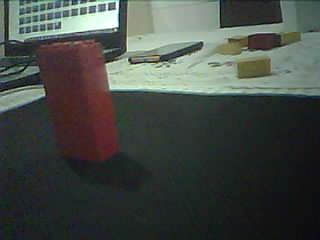lego: (35, 38, 121, 162), (247, 32, 305, 50), (236, 58, 271, 78), (214, 42, 242, 54), (228, 33, 249, 49)
